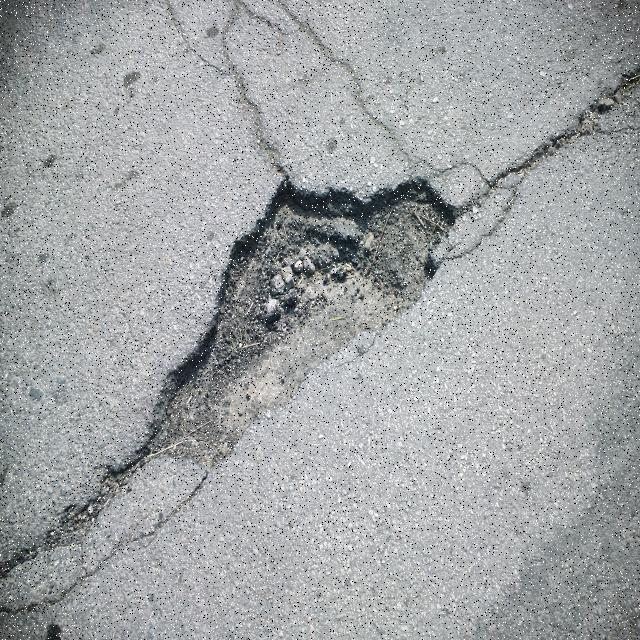Crack: (273, 0, 482, 180), (459, 63, 640, 204), (162, 0, 292, 176), (0, 452, 134, 576), (429, 172, 517, 268)
pothole: (111, 180, 454, 472)
